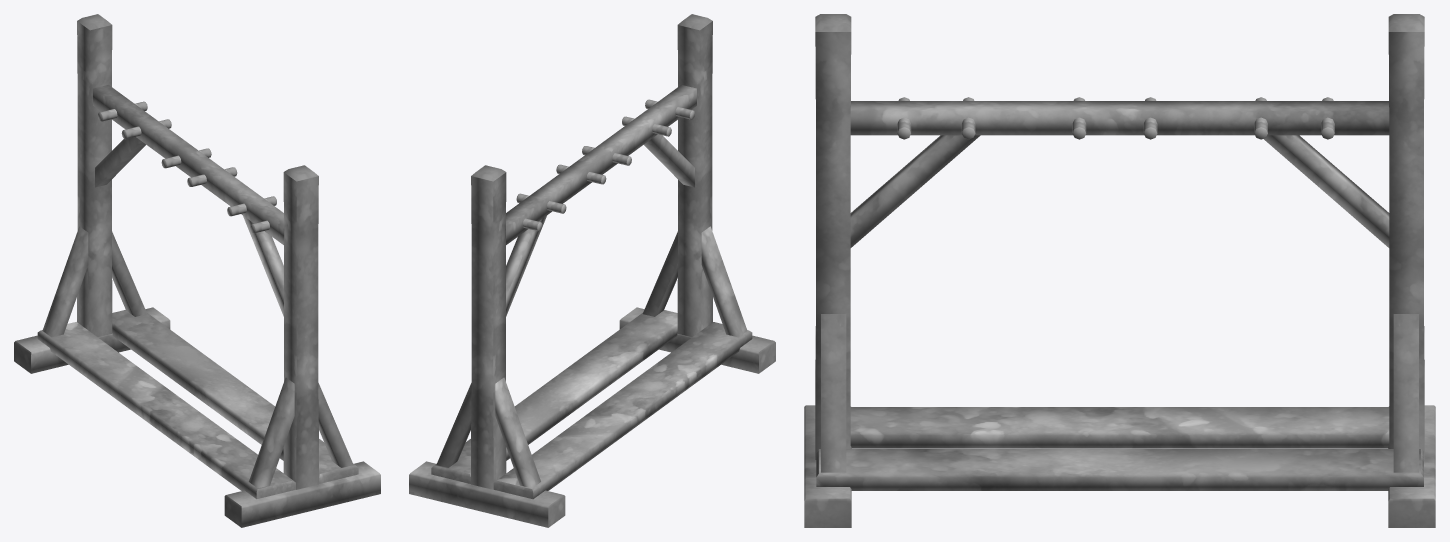
Rendered from SM_WeaponRack_01a.fbx.
3 views of the same model, side by side, from view 1: azimuth 30°, elevation 25°; view 2: azimuth 150°, elevation 25°; view 3: azimuth 270°, elevation 25° (orthographic). The views are drawn at different scales.
Parts seen in each view (by area): view 1: SM_WeaponRack_01a_LOD0; view 2: SM_WeaponRack_01a_LOD0; view 3: SM_WeaponRack_01a_LOD0.
Boxes of the visible parts, box(x1,y1,x2,y2) form: SM_WeaponRack_01a_LOD0: box(14, 14, 380, 527); SM_WeaponRack_01a_LOD0: box(409, 14, 775, 527); SM_WeaponRack_01a_LOD0: box(804, 14, 1435, 527).
Bounding box in the file's own units: 60.97 × 173 × 139.
